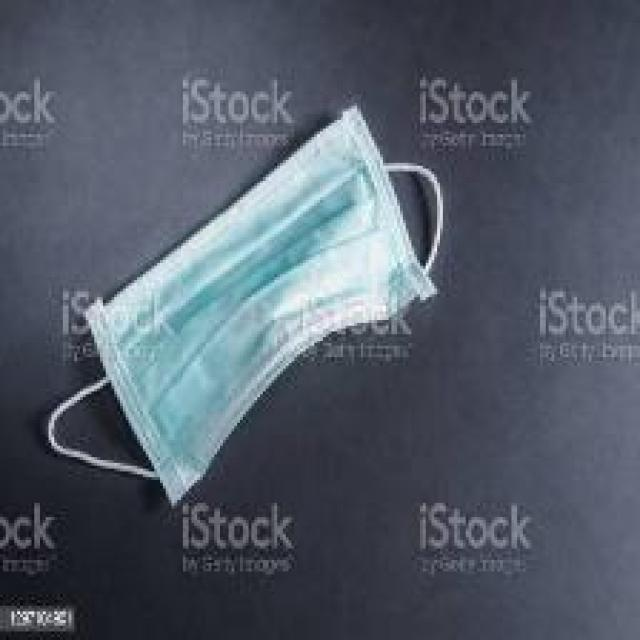Mask: (32, 97, 486, 532)
